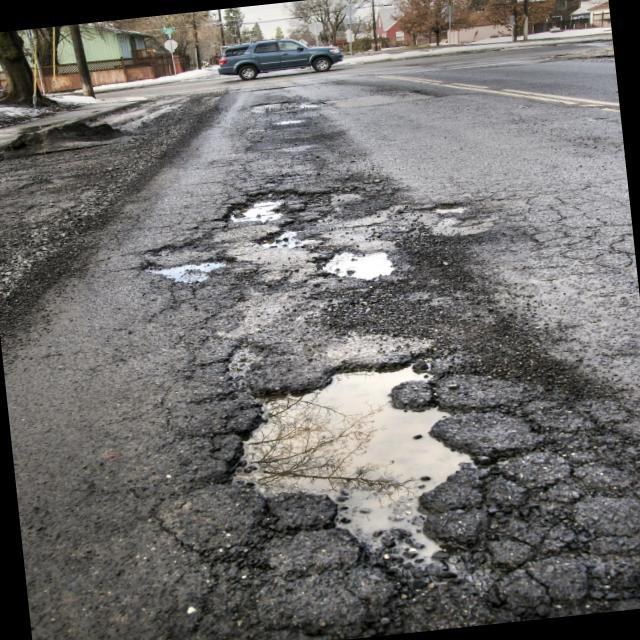Pothole: (196, 346, 502, 593), (318, 238, 402, 294), (133, 250, 244, 290), (205, 187, 294, 232), (262, 220, 326, 253)
